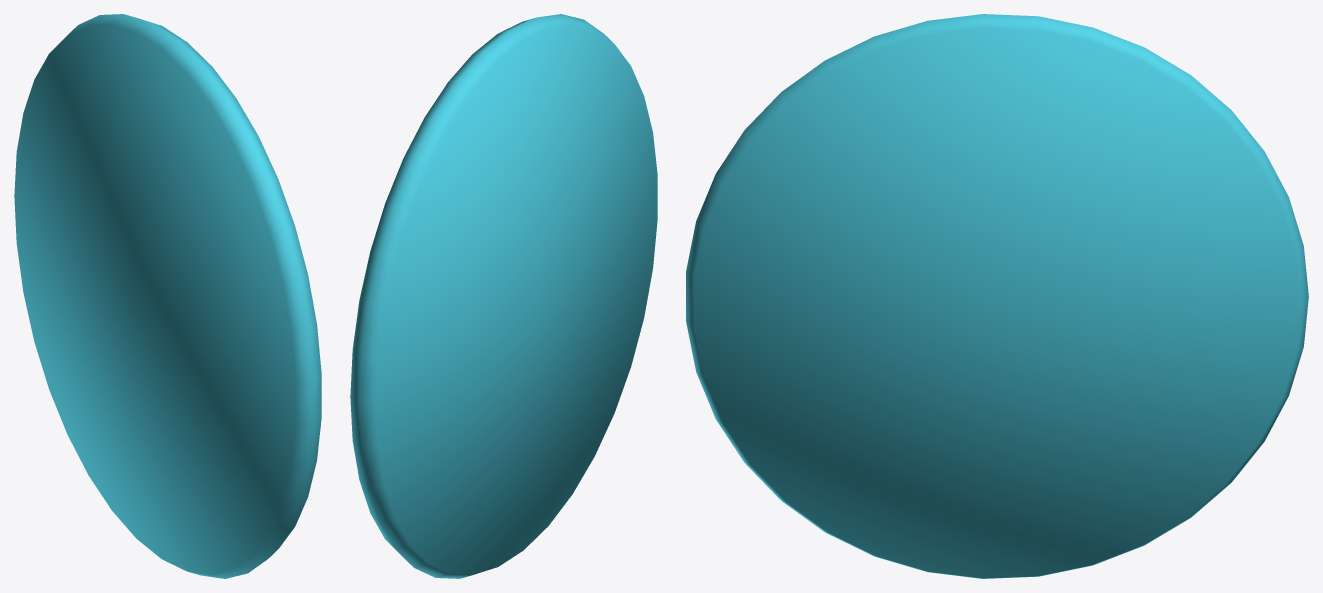
File: saunaDoorGlass.fbx
The picture shows the model from 3 angles, left to right: view 1: azimuth 30°, elevation 25°; view 2: azimuth 150°, elevation 25°; view 3: azimuth 270°, elevation 25°; orthographic projection. The views are drawn at different scales.
Visible parts, largest first — view 1: saunaDoorGlass; view 2: saunaDoorGlass; view 3: saunaDoorGlass.
Part boxes in pixels (x1,y1,x2,y2): saunaDoorGlass: (14,14,321,578); saunaDoorGlass: (350,14,657,578); saunaDoorGlass: (686,14,1308,578).
Size of the model in its own units: 11 by 87.69 by 87.6.
